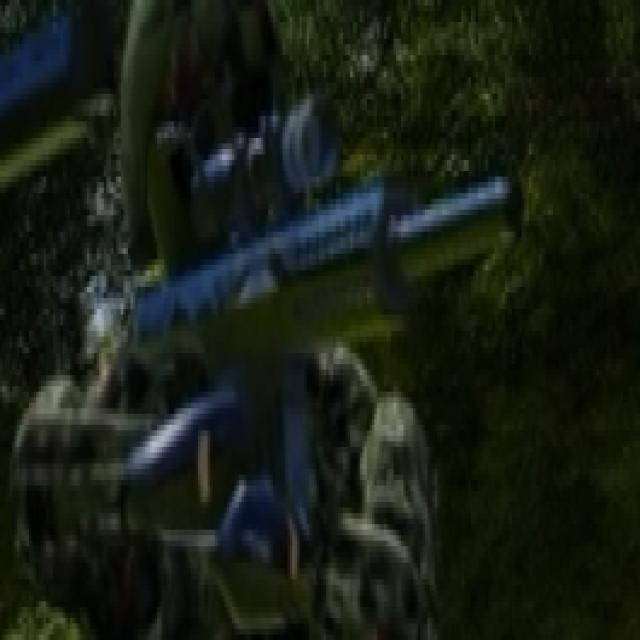RifleTel: (114, 75, 538, 480)
